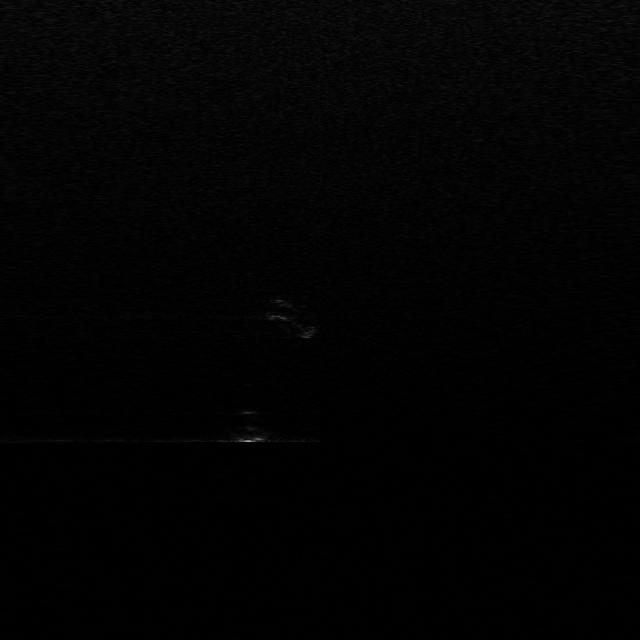ball: (223, 407, 276, 441)
tyre: (267, 302, 322, 339)
